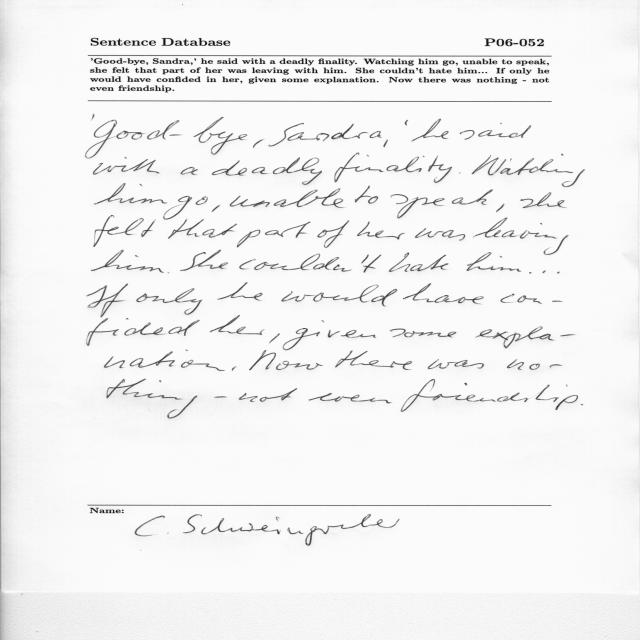word: (86, 117, 248, 158), (401, 379, 578, 412), (471, 154, 585, 187), (473, 217, 568, 255), (107, 379, 197, 419), (335, 153, 453, 183), (212, 157, 322, 185), (391, 190, 493, 219), (283, 320, 376, 350), (239, 254, 381, 273), (268, 123, 382, 146), (282, 285, 398, 307), (104, 350, 225, 371), (230, 188, 344, 208), (475, 327, 575, 349), (87, 318, 165, 346), (94, 215, 156, 247), (237, 222, 311, 248), (136, 288, 202, 315), (403, 283, 484, 304), (91, 250, 164, 273), (217, 283, 263, 318), (95, 183, 168, 205), (335, 350, 412, 370), (249, 350, 324, 370), (168, 219, 237, 239), (88, 284, 128, 318), (460, 123, 532, 140), (93, 157, 159, 175), (389, 252, 448, 272), (467, 252, 521, 272), (163, 196, 208, 219), (180, 250, 228, 271), (210, 318, 265, 335), (357, 221, 405, 240), (318, 220, 350, 248), (411, 119, 449, 142), (308, 393, 392, 403), (239, 388, 297, 402), (520, 192, 566, 208), (415, 228, 465, 241), (501, 294, 563, 304), (507, 359, 562, 370), (390, 329, 456, 338), (428, 359, 484, 369), (168, 320, 200, 336), (355, 186, 378, 204), (180, 167, 198, 175), (529, 270, 560, 274), (269, 333, 280, 343), (253, 139, 263, 148), (496, 204, 505, 212), (211, 205, 220, 212), (383, 140, 388, 147), (214, 396, 227, 398), (232, 366, 236, 371), (405, 120, 408, 125), (92, 115, 95, 119), (581, 404, 583, 405), (460, 173, 461, 173), (168, 273, 169, 273)
